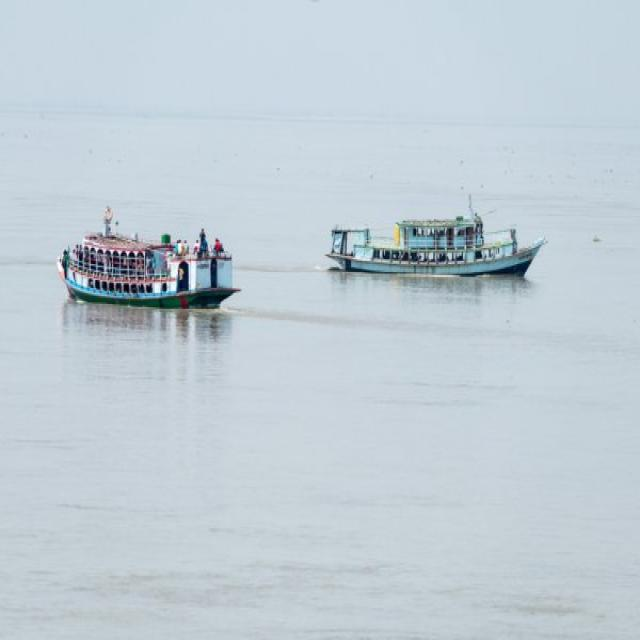houseboat: (55, 195, 245, 310), (322, 195, 544, 285)
